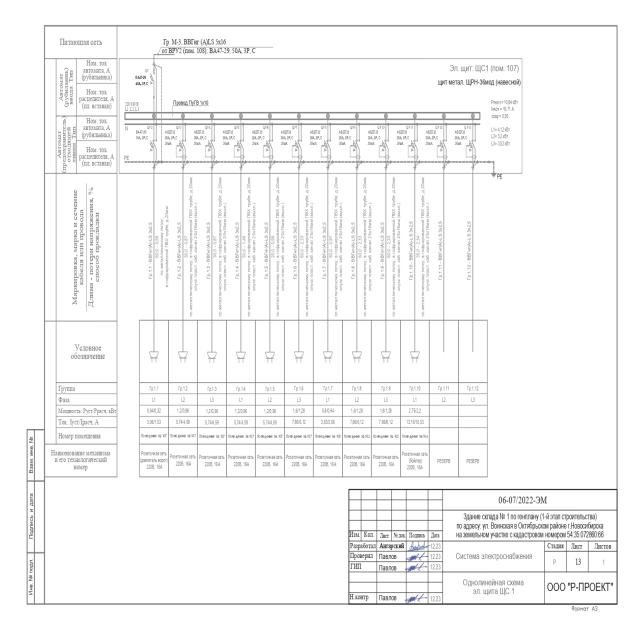-: (437, 77, 521, 89), (454, 129, 468, 146), (280, 129, 294, 146), (252, 128, 265, 146), (367, 130, 381, 146), (425, 130, 439, 146), (396, 130, 410, 146), (193, 130, 207, 146), (338, 130, 352, 146), (309, 130, 323, 146), (222, 129, 235, 146), (164, 130, 177, 146), (135, 129, 149, 142), (135, 75, 149, 86)
QF: (150, 138, 157, 150), (150, 72, 155, 83)
QFD: (175, 139, 188, 159), (204, 139, 217, 159), (233, 138, 246, 158), (349, 139, 362, 159), (262, 139, 274, 159), (292, 140, 304, 160), (320, 139, 332, 159), (379, 139, 391, 159), (407, 139, 419, 159), (436, 139, 448, 159), (466, 139, 478, 159)
